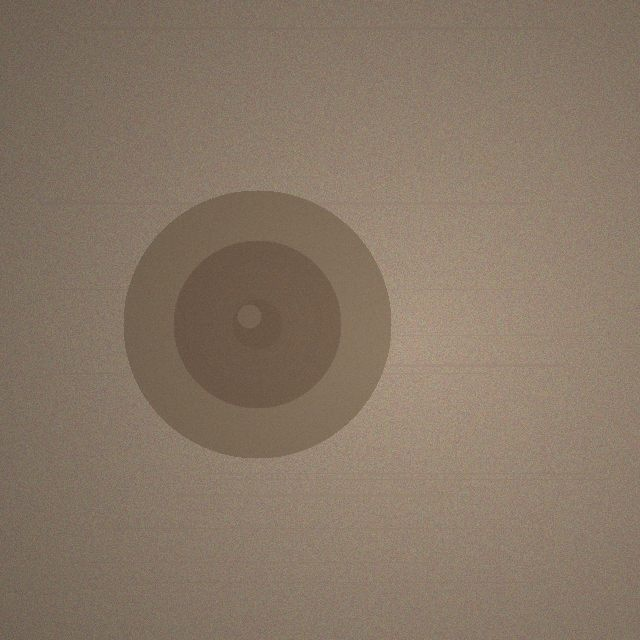good: (123, 190, 391, 458)
